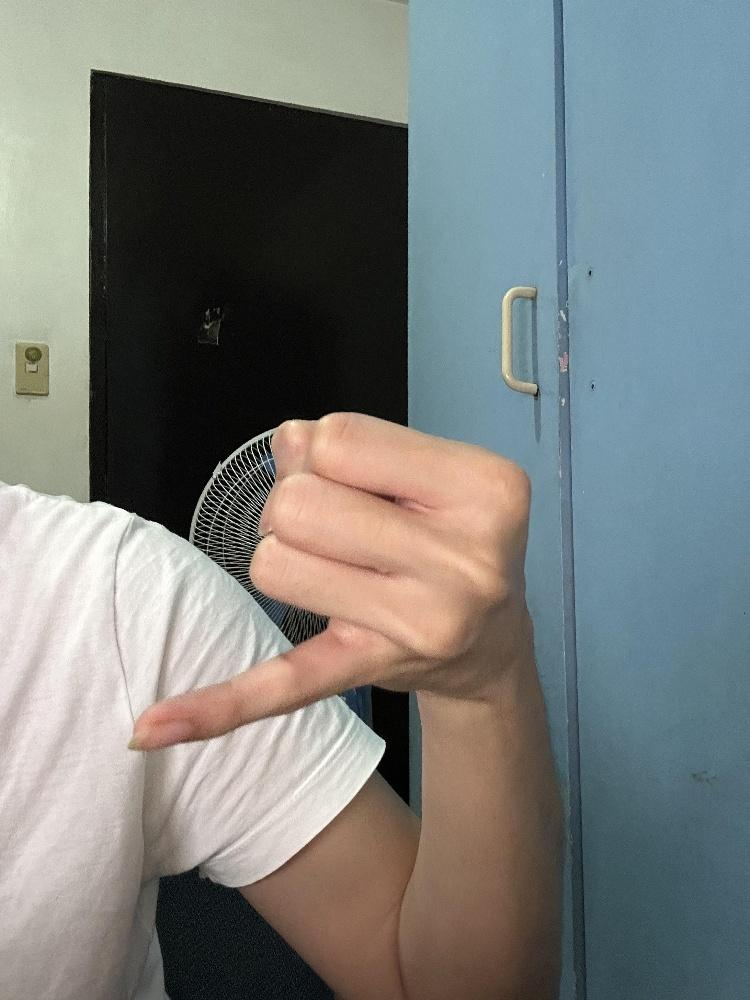j: (122, 405, 535, 757)
